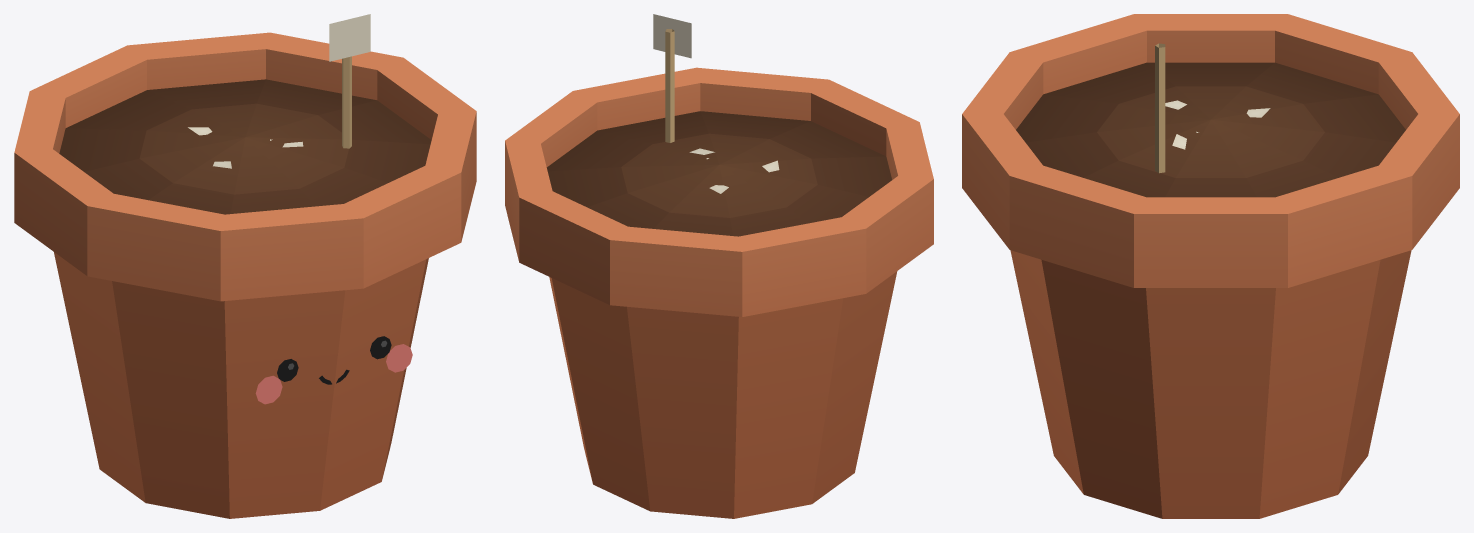
File: cute_zucchini_stage1.glb
3 renders of one model, left to right at view 1: azimuth 30°, elevation 25°; view 2: azimuth 150°, elevation 25°; view 3: azimuth 270°, elevation 25°, orthographic. The views are drawn at different scales.
Parts seen in each view (by area): view 1: ZucchiniPlant; view 2: ZucchiniPlant; view 3: ZucchiniPlant.
Boxes of the visible parts, <box> form: ZucchiniPlant: <box>14,14,476,518</box>; ZucchiniPlant: <box>505,14,933,518</box>; ZucchiniPlant: <box>962,14,1459,518</box>.
Size of the model in its own units: 0.3766 by 0.405 by 0.396.
